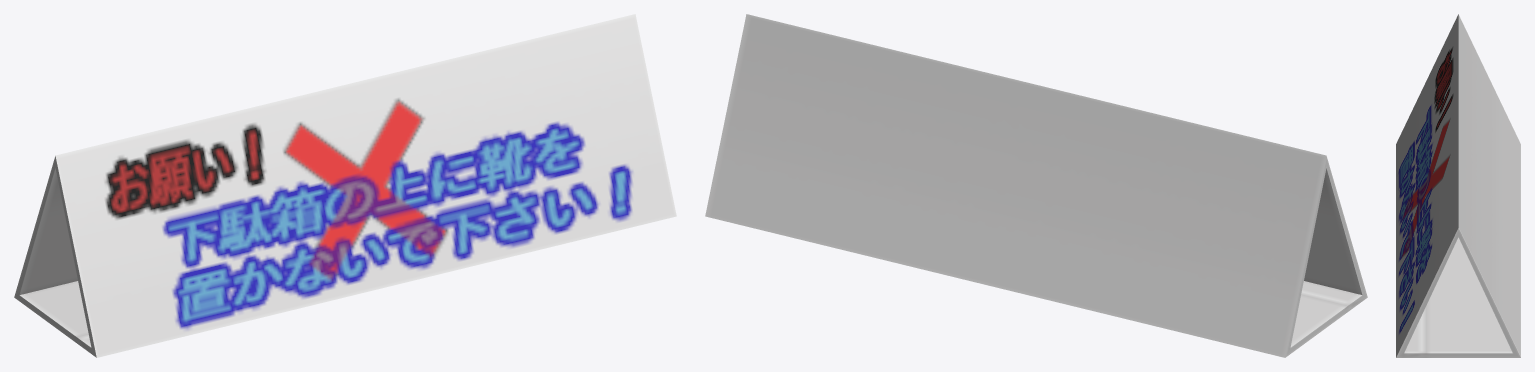
The model's file is set_Precautionary_note_02.fbx.
The picture shows the model from 3 angles, left to right: view 1: azimuth 30°, elevation 25°; view 2: azimuth 150°, elevation 25°; view 3: azimuth 270°, elevation 25°; orthographic projection. The views are drawn at different scales.
Visible parts, largest first — view 1: set_Precautionary_note_02; view 2: set_Precautionary_note_02; view 3: set_Precautionary_note_02.
Part boxes in pixels (box(x1,y1,x2,y2)): set_Precautionary_note_02: box(14, 14, 676, 357); set_Precautionary_note_02: box(705, 14, 1367, 357); set_Precautionary_note_02: box(1396, 14, 1520, 357).
Bounding box in the file's own units: 45.88 × 13.02 × 11.32.
